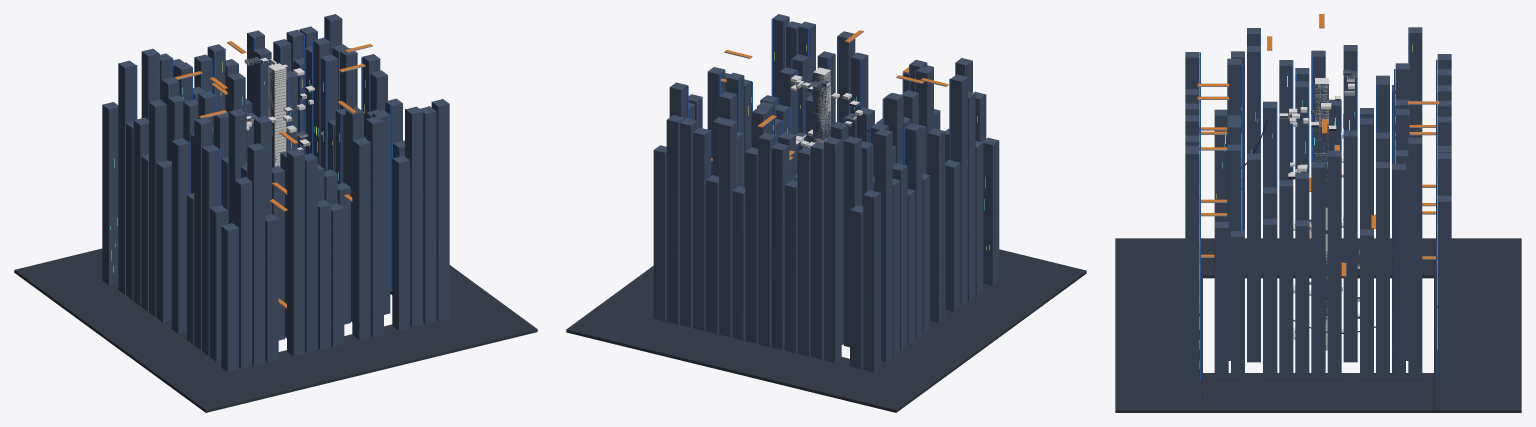
The model's file is zone-2.glb.
3 views of the same model, side by side, from view 1: azimuth 30°, elevation 25°; view 2: azimuth 150°, elevation 25°; view 3: azimuth 270°, elevation 25° (orthographic). The views are drawn at different scales.
Visible parts, largest first — view 1: z2_scenery__rack, z2_scenery__hall-floor, z2_scenery__cable-blue, z2_scenery__tray, z2_scenery__steel; view 2: z2_scenery__rack, z2_scenery__hall-floor, z2_scenery__cable-blue; view 3: z2_scenery__rack, z2_scenery__hall-floor, z2_scenery__cable-blue, z2_scenery__tray, z2_scenery__steel.
Part boxes in pixels (x1,y1,x2,y2): z2_scenery__rack: (102,14,449,372); z2_scenery__hall-floor: (14,248,537,412); z2_scenery__cable-blue: (136,21,442,334); z2_scenery__tray: (170,41,372,307); z2_scenery__steel: (174,41,372,309); z2_scenery__rack: (653,14,999,372); z2_scenery__hall-floor: (566,249,1086,412); z2_scenery__cable-blue: (674,19,965,206); z2_scenery__rack: (1185,27,1451,381); z2_scenery__hall-floor: (1115,238,1521,412); z2_scenery__cable-blue: (1199,33,1437,380); z2_scenery__tray: (1197,14,1439,276); z2_scenery__steel: (1197,14,1439,284).
Bounding box in the file's own units: 116 × 88.56 × 116.
13 materials, 8 textured.
